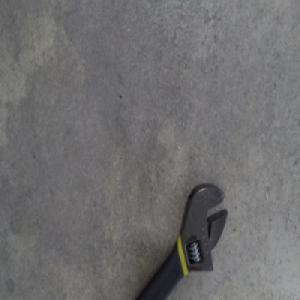AdjustableWrench: (133, 183, 229, 299)
